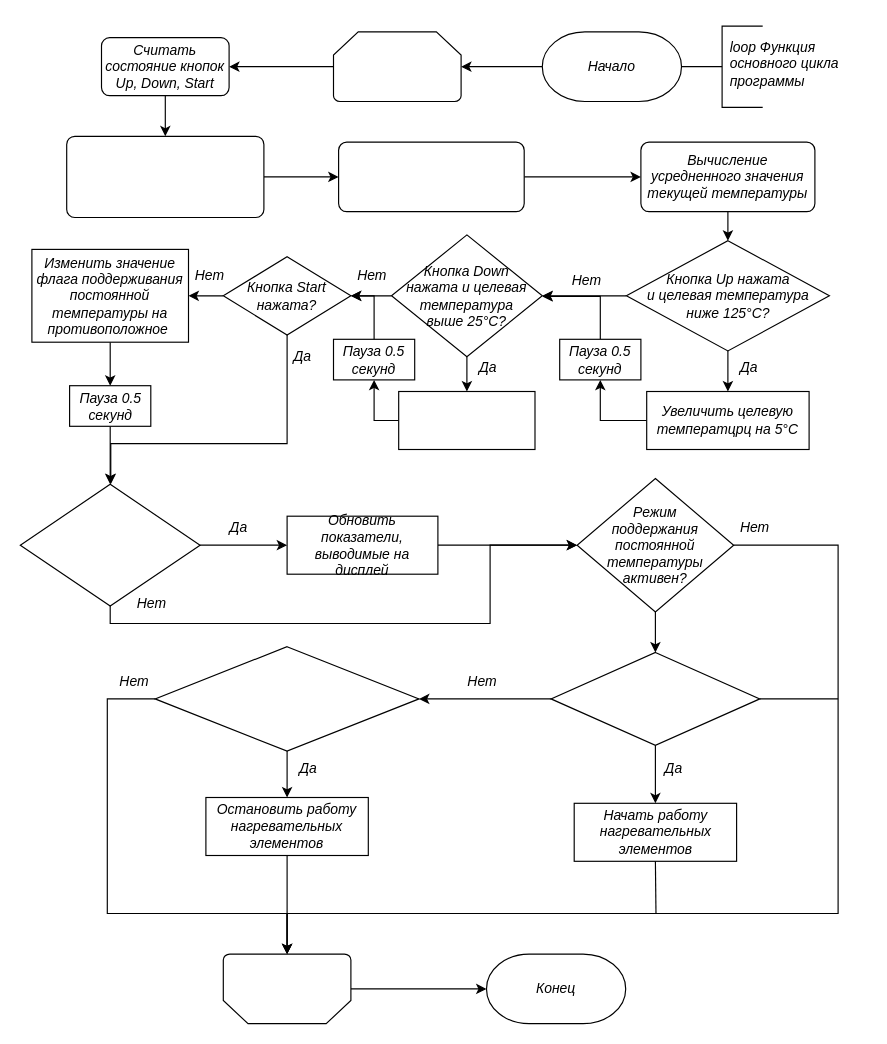
This 887x1044 diagram has some shape labels left out. Each missing label, with the box of its shape:
Вызов функции валидации значений, полученных с датчиков: (337, 141, 524, 212)
Основной цикл программы: (332, 31, 461, 102)
С предыдущего обновления дисплея прошла минута?: (19, 483, 200, 606)
Считать значения датчиков температуры: (66, 135, 264, 217)
Текущая температура выше целевой и осуществляется нагрев?: (154, 646, 419, 751)
Текущая температура ниже целевой и нагрев выключен?: (550, 651, 760, 745)
Уменьшить целевую температцрц на 5°C: (398, 390, 535, 449)
Цикл: (222, 953, 351, 1024)
